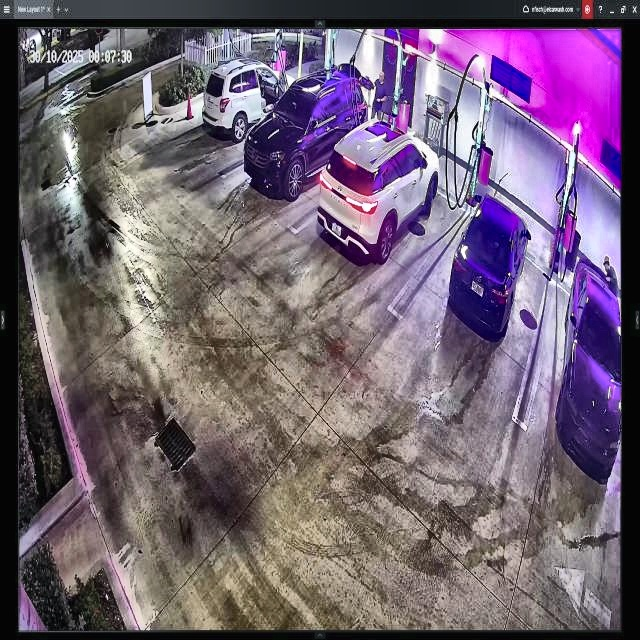Car: (245, 66, 374, 196), (320, 119, 439, 256), (450, 194, 532, 338)
